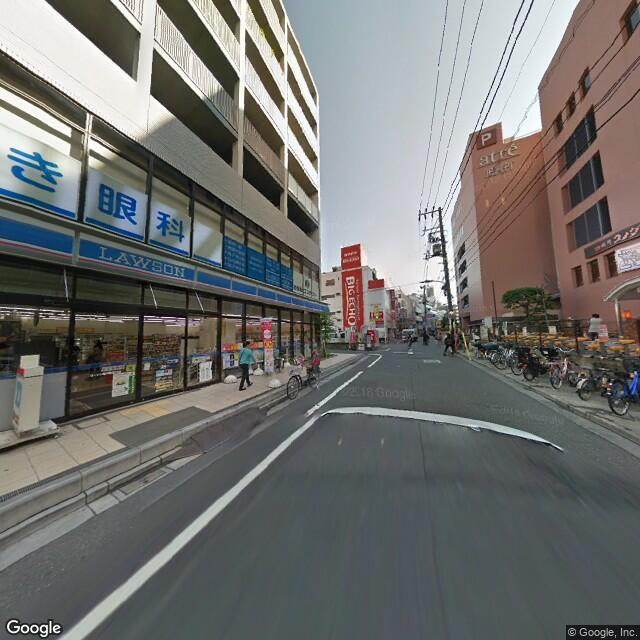lawson: (1, 207, 326, 318)
